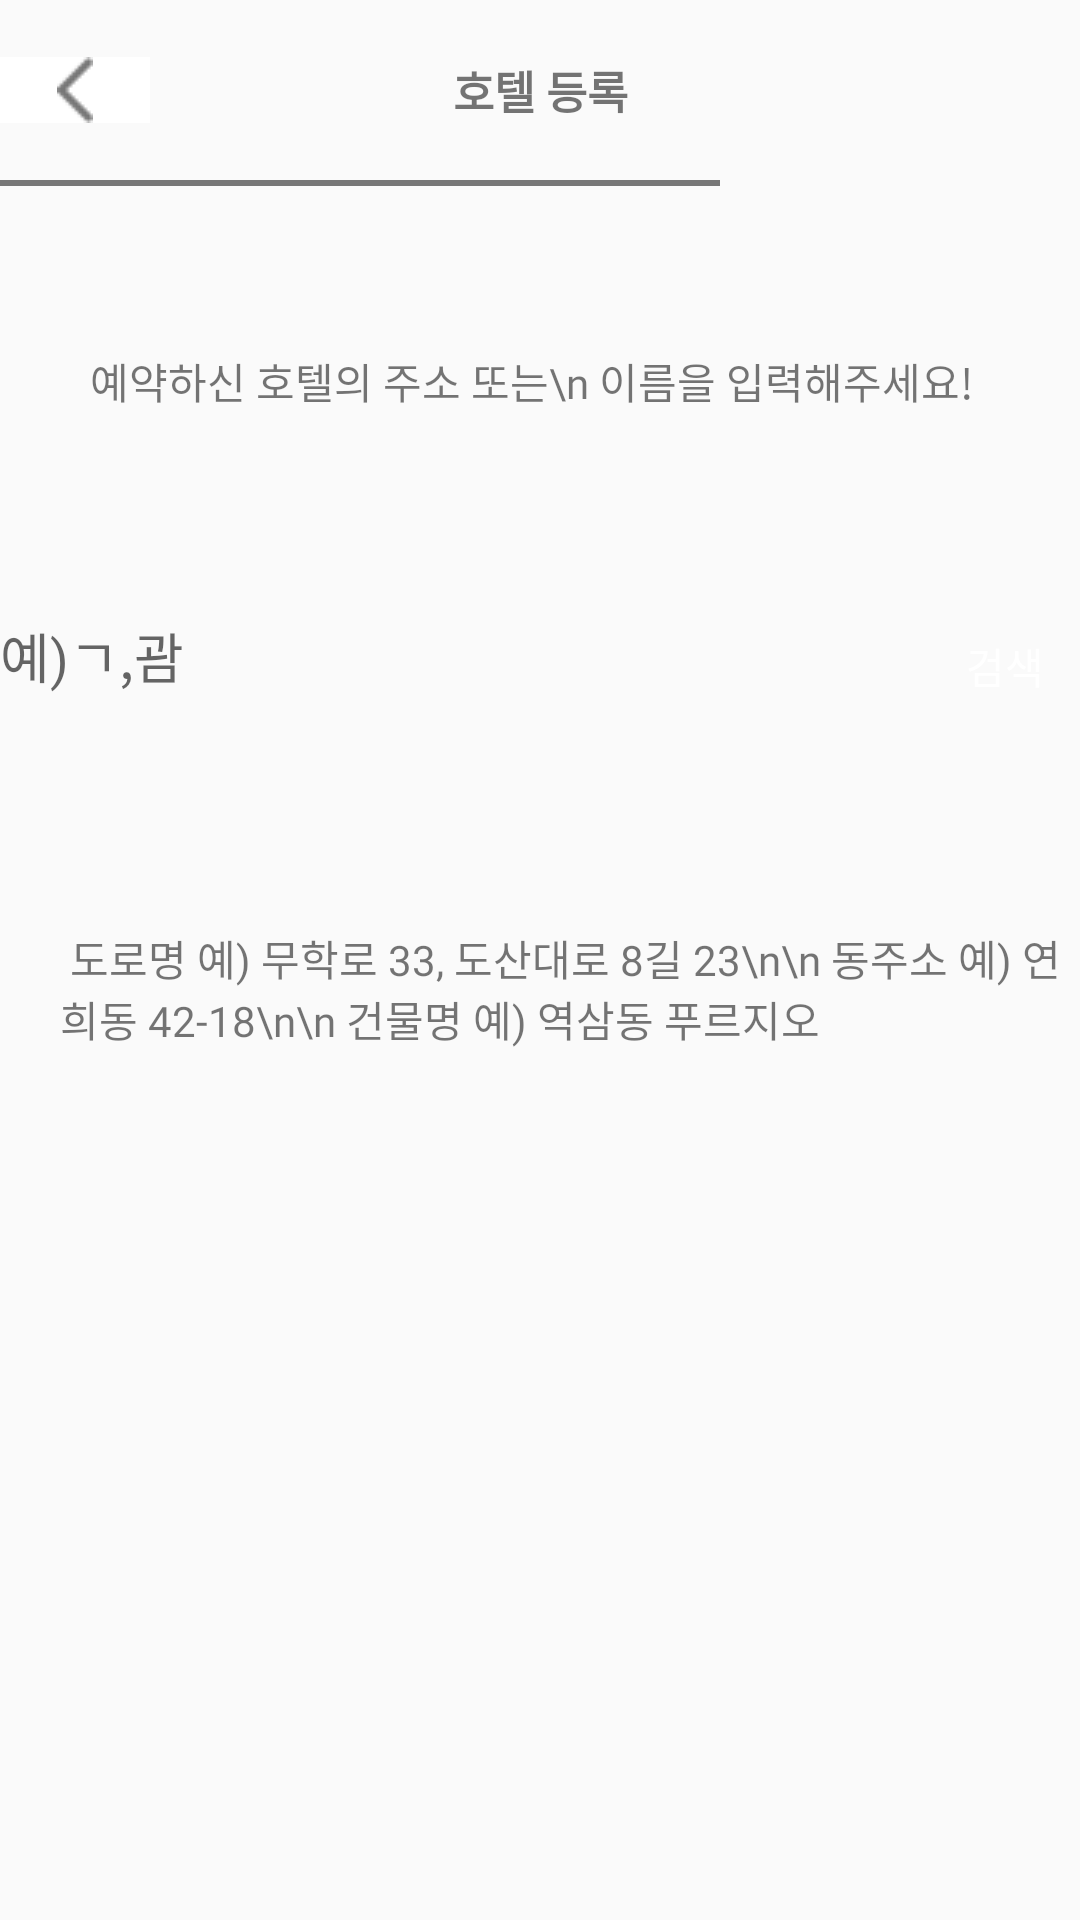

Where to tap for icons on this 1080*1920 app screen, as [x,y]:
arrow: [75,90]
